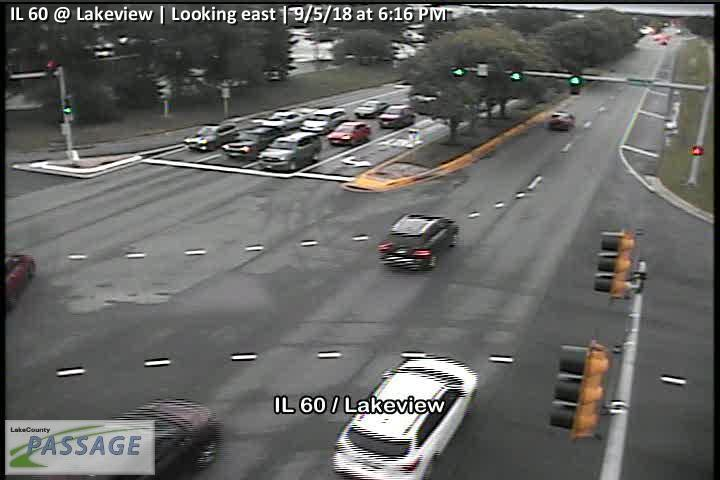SUV: (375, 212, 459, 273), (255, 132, 322, 172), (222, 127, 283, 162), (183, 123, 240, 153), (300, 107, 347, 136)
Sedan: (328, 356, 478, 480), (327, 122, 372, 147), (376, 104, 417, 130), (260, 110, 305, 131), (353, 101, 390, 119), (548, 111, 576, 131)
